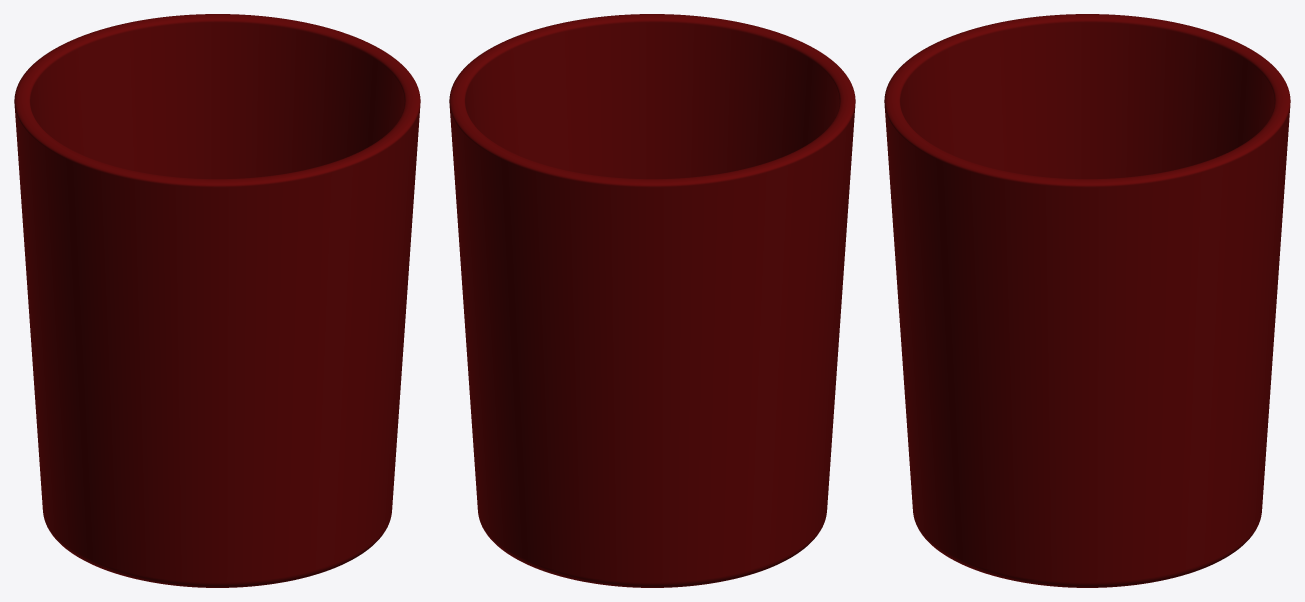
The model's file is model16clear.glb.
The picture shows the model from 3 angles, left to right: view 1: azimuth 30°, elevation 25°; view 2: azimuth 150°, elevation 25°; view 3: azimuth 270°, elevation 25°; orthographic projection.
Bounding box in the file's own units: 0.077 × 0.0878 × 0.077.
